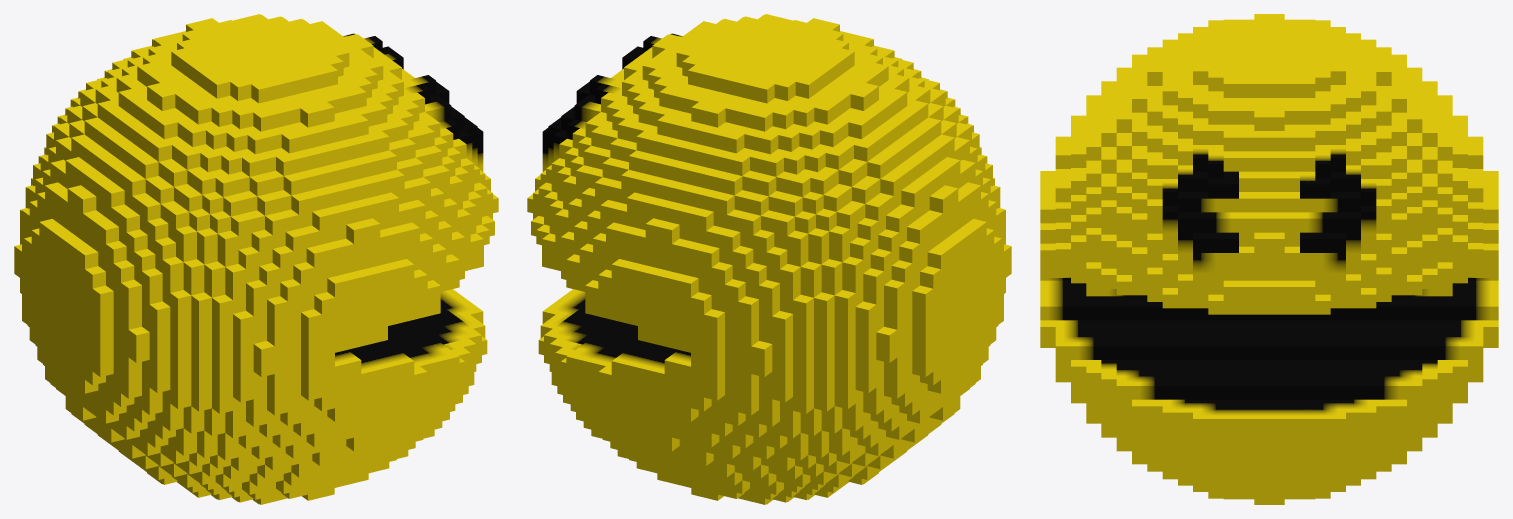
The model's file is pacman.fbx.
3 views of the same model, side by side, from view 1: azimuth 30°, elevation 25°; view 2: azimuth 150°, elevation 25°; view 3: azimuth 270°, elevation 25° (orthographic).
Parts seen in each view (by area): view 1: Sphere; view 2: Sphere; view 3: Sphere.
Part boxes in pixels (<box>): Sphere: <box>14,14,498,504</box>; Sphere: <box>527,14,1011,504</box>; Sphere: <box>1040,14,1498,504</box>.
Size of the model in its own units: 30 by 30 by 30.
